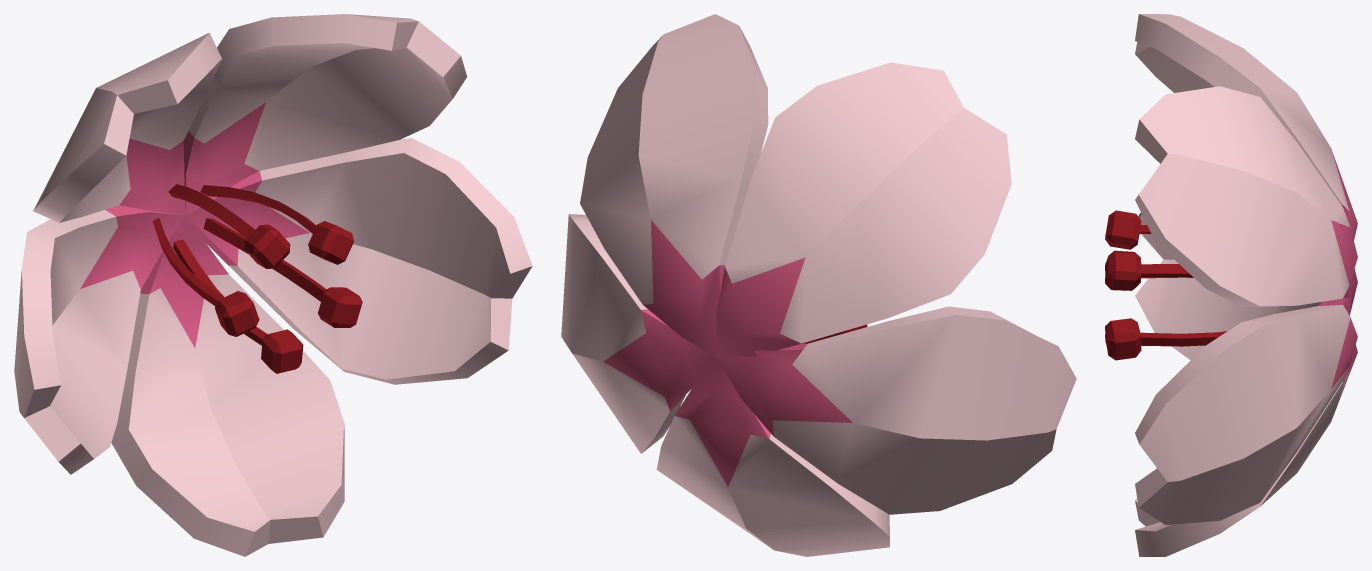
File: Decoration Sakura Flower.glb
3 views of the same model, side by side, from view 1: azimuth 30°, elevation 25°; view 2: azimuth 150°, elevation 25°; view 3: azimuth 270°, elevation 25° (orthographic). The views are drawn at different scales.
Visible parts, largest first — view 1: Decoration_SakuraFlower; view 2: Decoration_SakuraFlower; view 3: Decoration_SakuraFlower.
Boxes of the visible parts, <box> form: Decoration_SakuraFlower: <box>14,14,532,556</box>; Decoration_SakuraFlower: <box>561,14,1076,556</box>; Decoration_SakuraFlower: <box>1105,14,1357,556</box>.
Size of the model in its own units: 0.9715 by 0.954 by 0.4495.
1 material, 1 textured.
